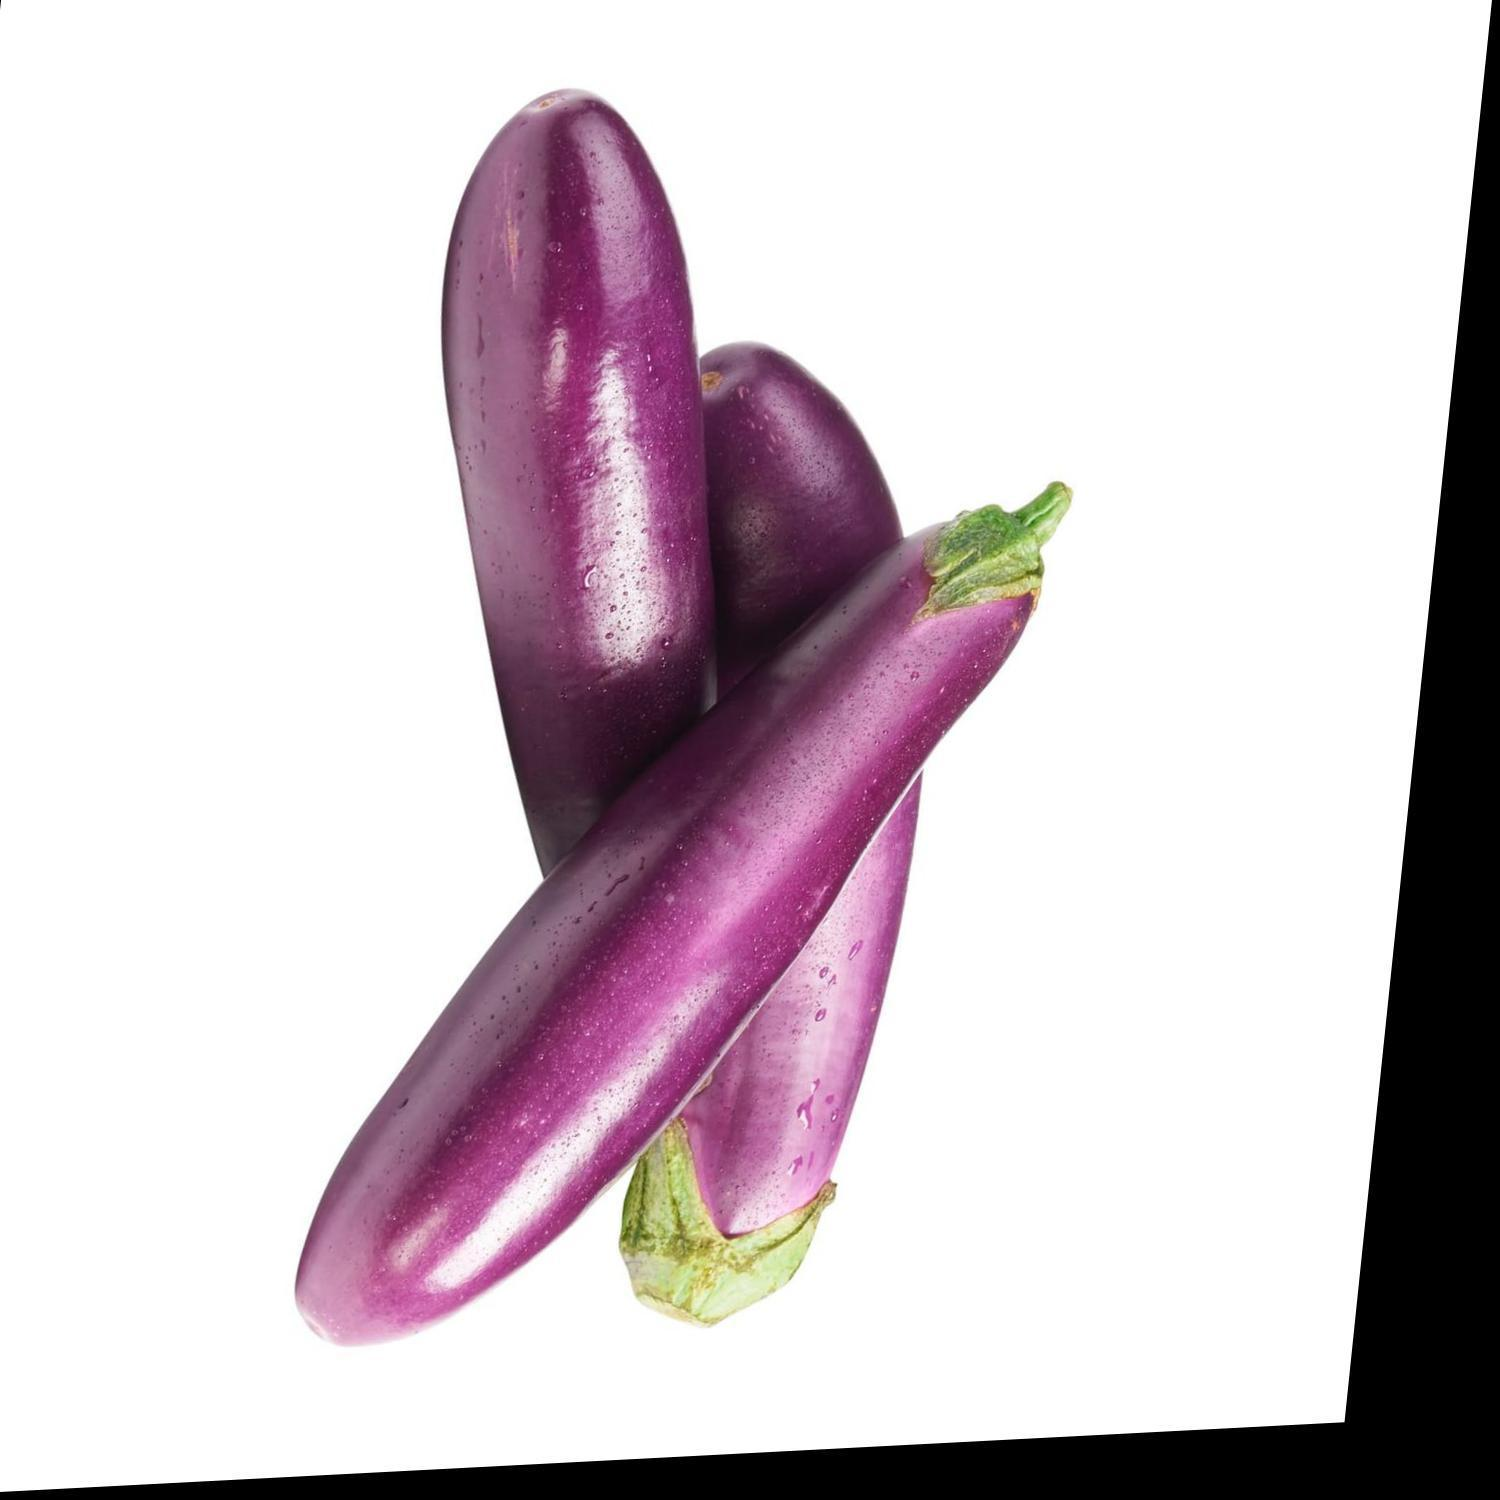eggplant: (177, 52, 1179, 1391)
